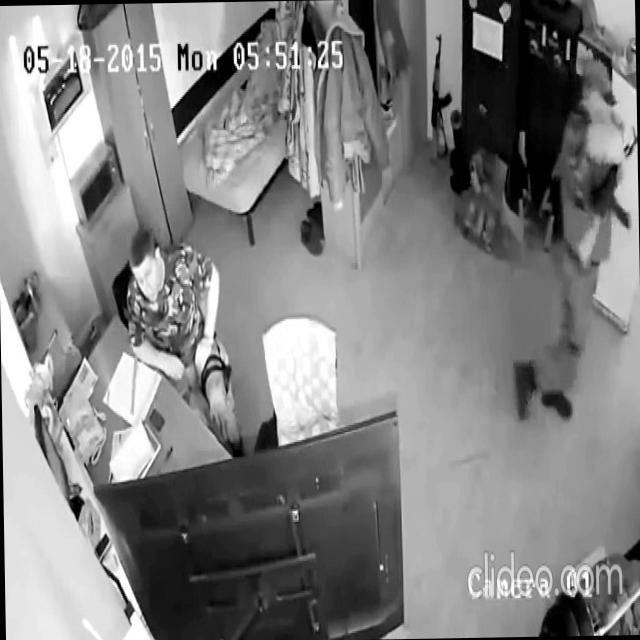gun: (574, 125, 640, 279), (512, 85, 542, 248), (427, 31, 453, 166)
person: (124, 220, 245, 462)
person with a gun: (505, 56, 640, 428)
